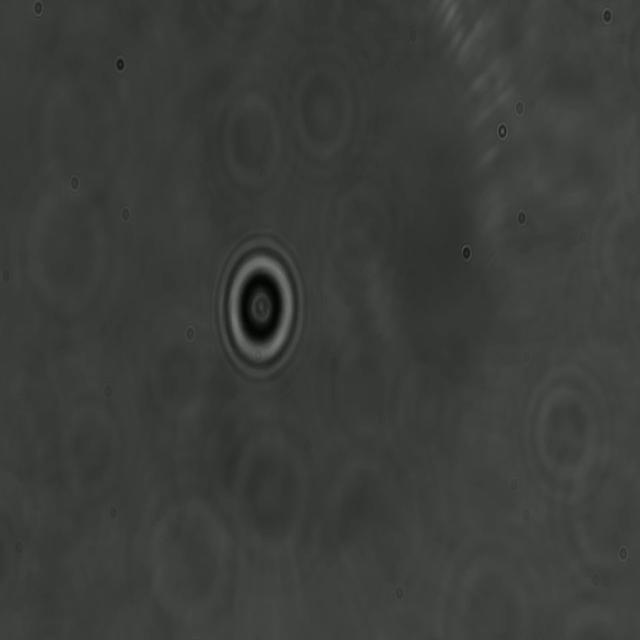LCELL: (213, 232, 307, 386)
